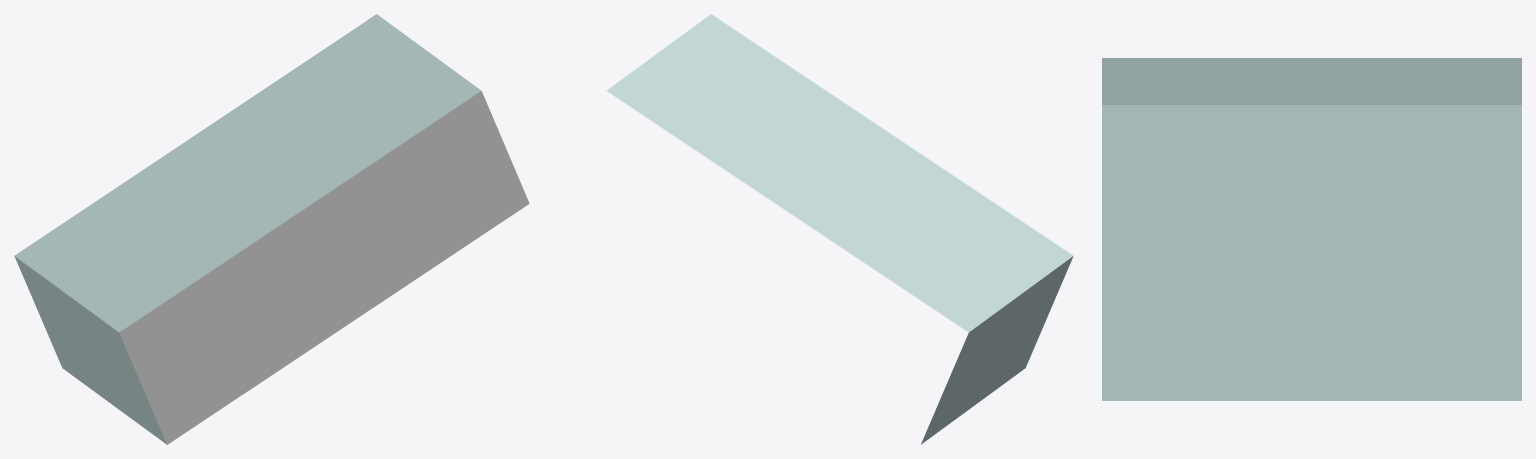
3 views of the same model, side by side, from view 1: azimuth 30°, elevation 25°; view 2: azimuth 150°, elevation 25°; view 3: azimuth 270°, elevation 25° (orthographic). The views are drawn at different scales.
Parts seen in each view (by area): view 1: 0_1_1_2_2_3_0_0_1; view 2: 0_1_1_2_2_3_0_0_1; view 3: 0_1_1_2_2_3_0_0_1.
Part boxes in pixels (left/top/right/bottom): 0_1_1_2_2_3_0_0_1: left=14, top=14, right=529, bottom=444; 0_1_1_2_2_3_0_0_1: left=606, top=14, right=1073, bottom=444; 0_1_1_2_2_3_0_0_1: left=1102, top=58, right=1521, bottom=400.
Size of the model in its own units: 6.78 by 4.38 by 3.
